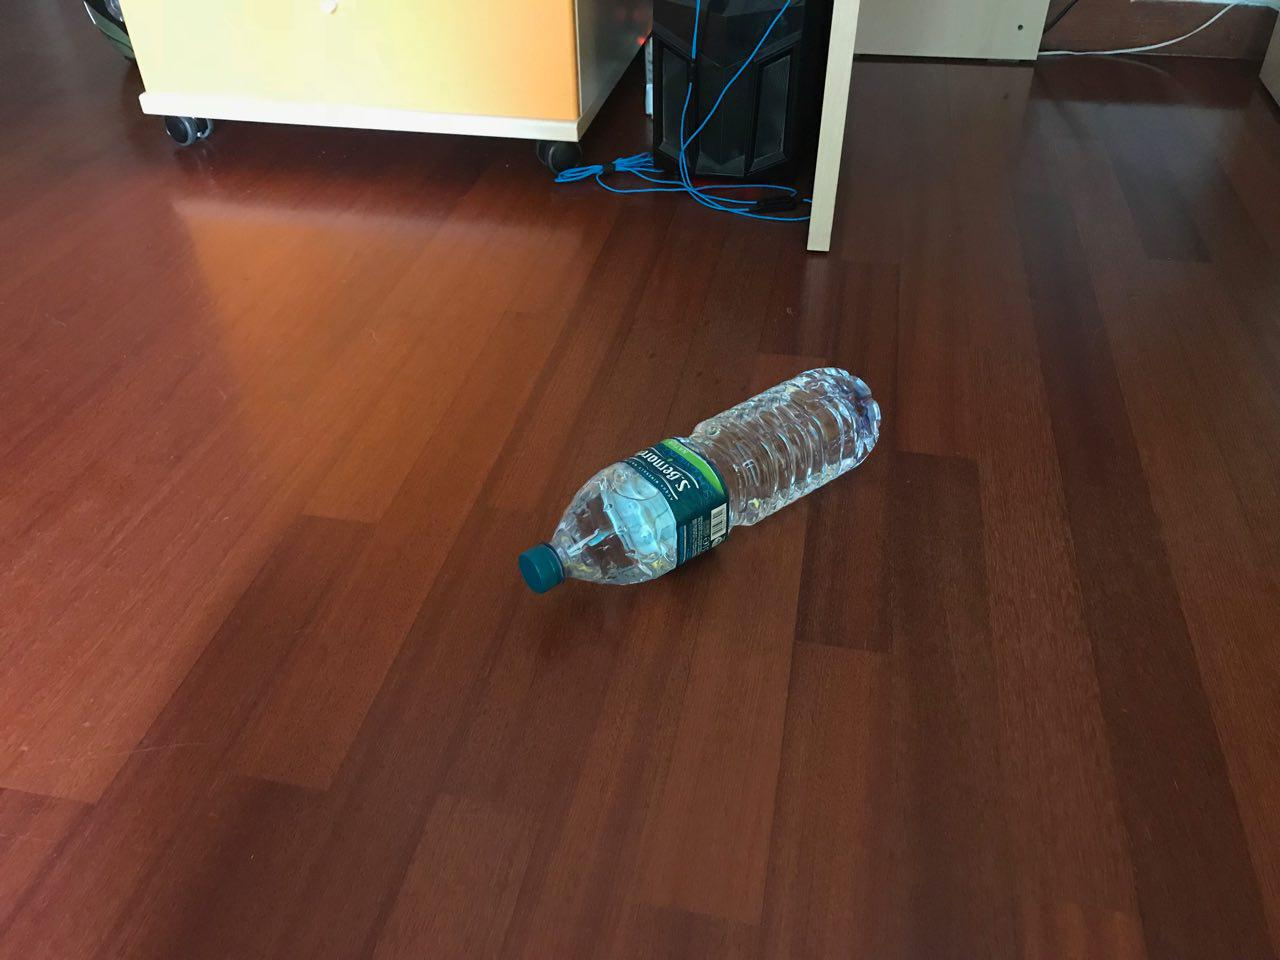san_bernardo: (516, 365, 883, 596)
